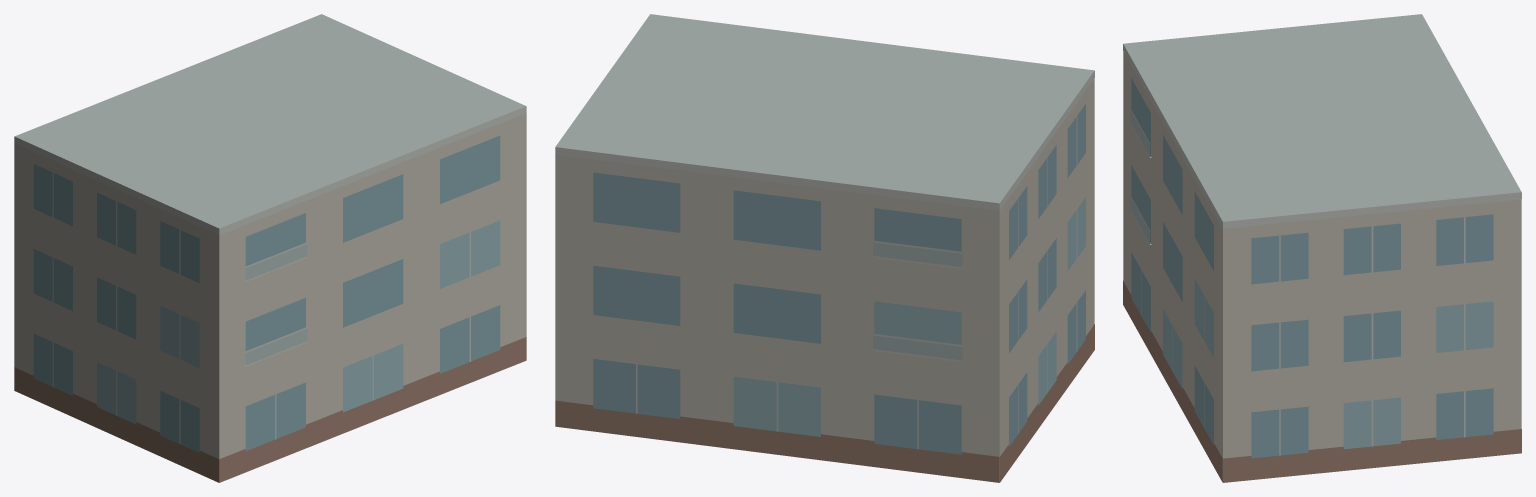
Rendered from survey-upis-32646198.glb.
3 renders of one model, left to right at view 1: azimuth 30°, elevation 25°; view 2: azimuth 150°, elevation 25°; view 3: azimuth 270°, elevation 25°, orthographic. The views are drawn at different scales.
Parts seen in each view (by area): view 1: survey-upis-32646198.tmp; view 2: survey-upis-32646198.tmp; view 3: survey-upis-32646198.tmp.
Part boxes in pixels (x1=…): survey-upis-32646198.tmp: x1=14, y1=14, x2=526, y2=482; survey-upis-32646198.tmp: x1=555, y1=14, x2=1094, y2=482; survey-upis-32646198.tmp: x1=1123, y1=14, x2=1521, y2=482.
Size of the model in its own units: 15.64 by 9.15 by 12.68.
